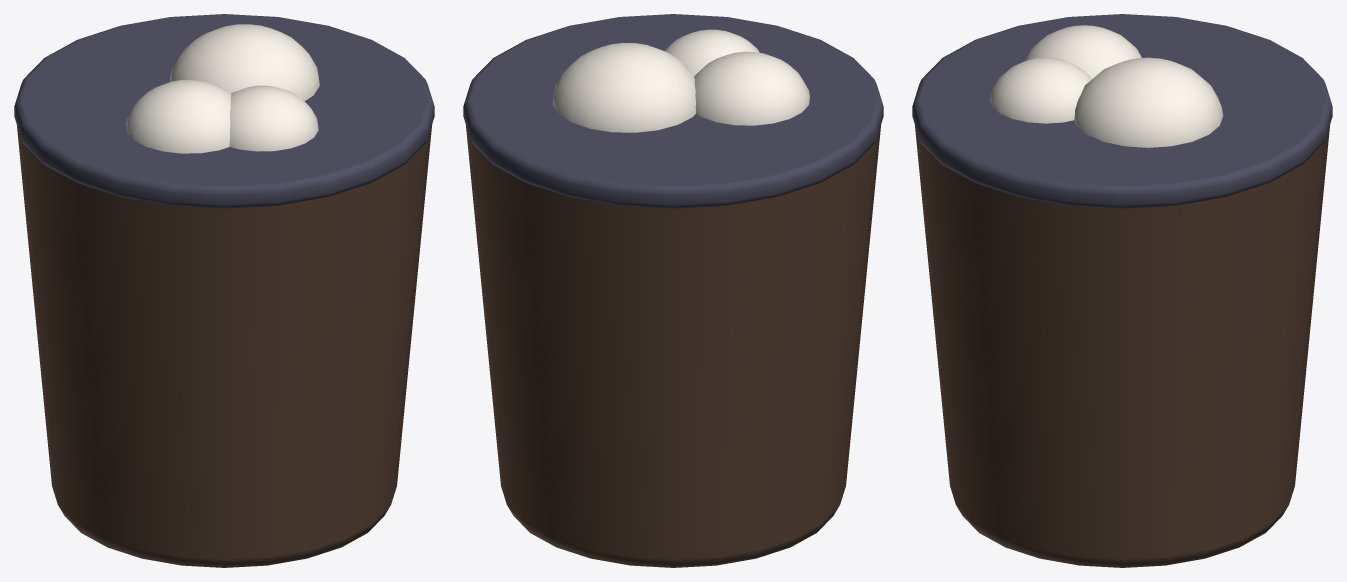
File: bin.glb
3 renders of one model, left to right at view 1: azimuth 30°, elevation 25°; view 2: azimuth 150°, elevation 25°; view 3: azimuth 270°, elevation 25°, orthographic.
Parts seen in each view (by area): view 1: bin; view 2: bin; view 3: bin.
Part boxes in pixels (x1=…): bin: x1=14, y1=14, x2=434, y2=567; bin: x1=463, y1=14, x2=883, y2=567; bin: x1=912, y1=14, x2=1332, y2=567.
Size of the model in its own units: 0.33 by 0.3924 by 0.33.
